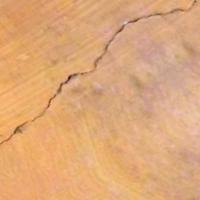crack: (0, 0, 199, 175)
